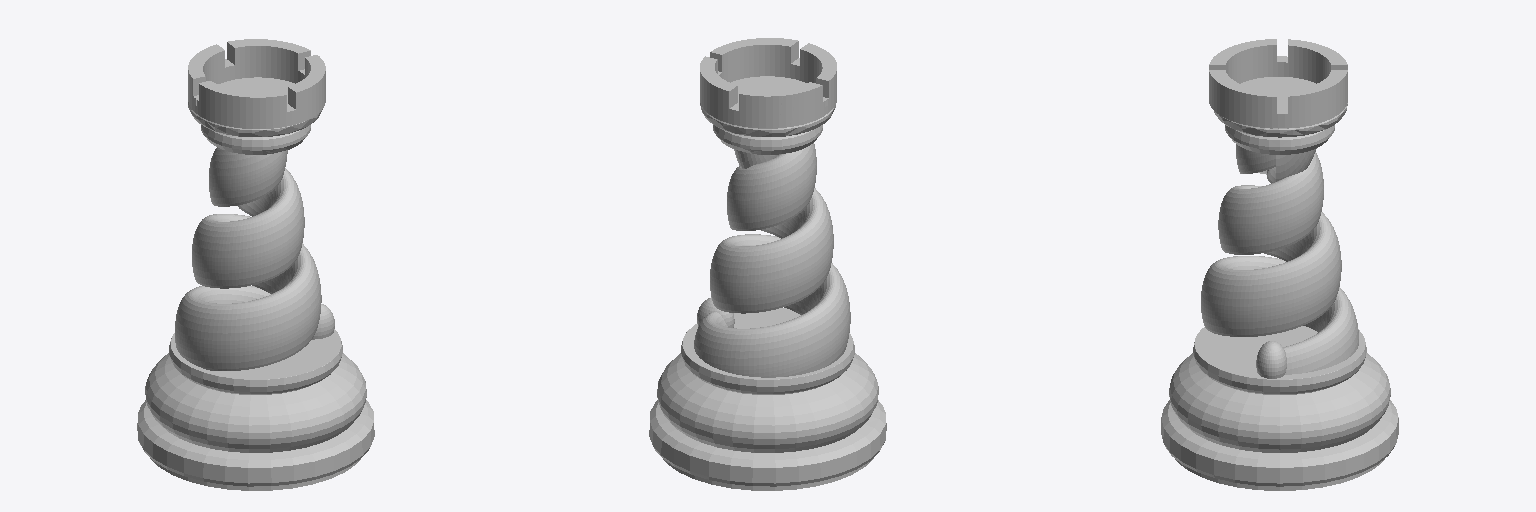
Rendered from chess_tour.obj.
The picture shows the model from 3 angles: view 1: azimuth 30°, elevation 25°; view 2: azimuth 150°, elevation 25°; view 3: azimuth 270°, elevation 25°; orthographic projection.
Visible parts, largest first — view 1: Spiral_Rook; view 2: Spiral_Rook; view 3: Spiral_Rook.
Boxes of the visible parts, x1=… form: Spiral_Rook: x1=137, y1=39, x2=374, y2=490; Spiral_Rook: x1=649, y1=38, x2=886, y2=490; Spiral_Rook: x1=1161, y1=39, x2=1398, y2=490.
Bounding box in the file's own units: 15 × 26.2 × 15.